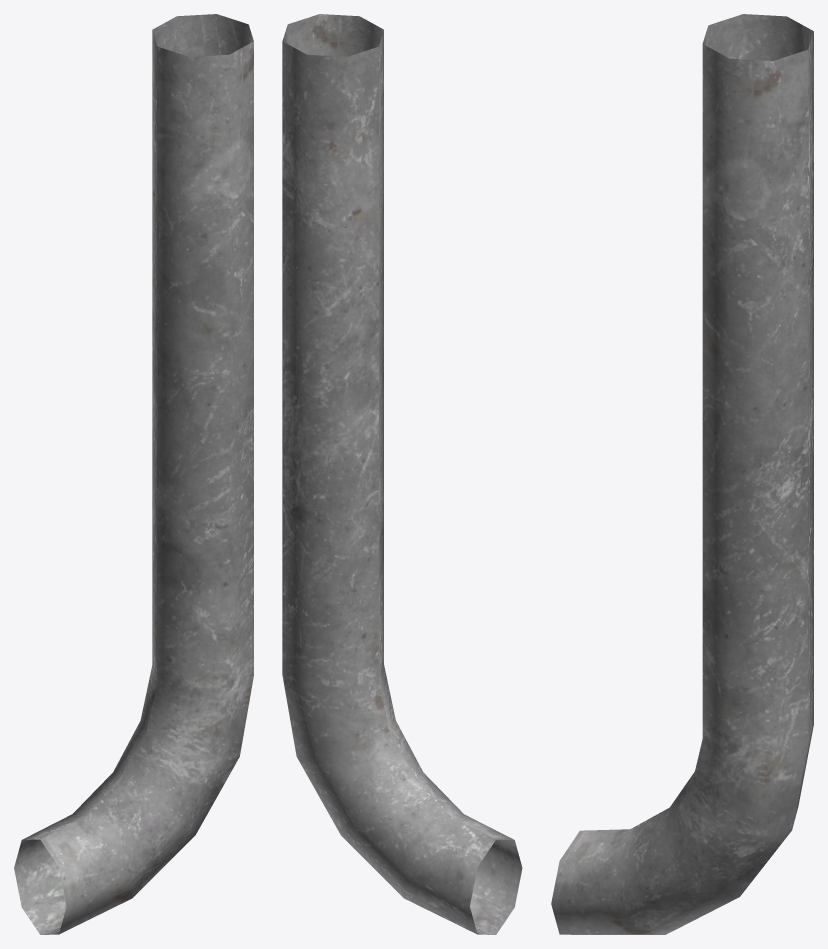
The model's file is Ob_PipeMiniTurn.fbx.
3 renders of one model, left to right at view 1: azimuth 30°, elevation 25°; view 2: azimuth 150°, elevation 25°; view 3: azimuth 330°, elevation 25°, orthographic. The views are drawn at different scales.
Parts seen in each view (by area): view 1: Ob_PipeMiniTurn; view 2: Ob_PipeMiniTurn; view 3: Ob_PipeMiniTurn.
Part boxes in pixels (<box>): Ob_PipeMiniTurn: <box>14,14,253,934</box>; Ob_PipeMiniTurn: <box>282,14,522,934</box>; Ob_PipeMiniTurn: <box>551,14,813,934</box>.
Size of the model in its own units: 248 by 976 by 108.
